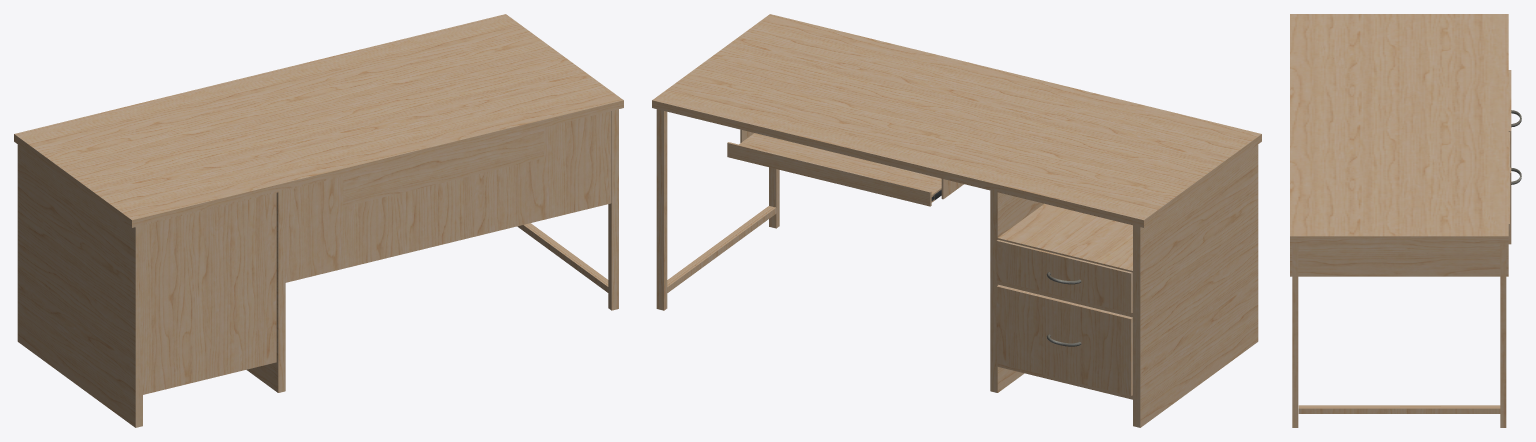
File: Desk.fbx
3 renders of one model, left to right at view 1: azimuth 30°, elevation 25°; view 2: azimuth 150°, elevation 25°; view 3: azimuth 270°, elevation 25°, orthographic. The views are drawn at different scales.
Visible parts, largest first — view 1: polySurface1253; view 2: polySurface1253; view 3: polySurface1253.
Part boxes in pixels (<box>): polySurface1253: <box>14,14,623,427</box>; polySurface1253: <box>652,14,1261,427</box>; polySurface1253: <box>1290,14,1521,427</box>.
Size of the model in its own units: 1.83 by 0.7417 by 0.8068.
Materials: 1 (1 with a texture image).
